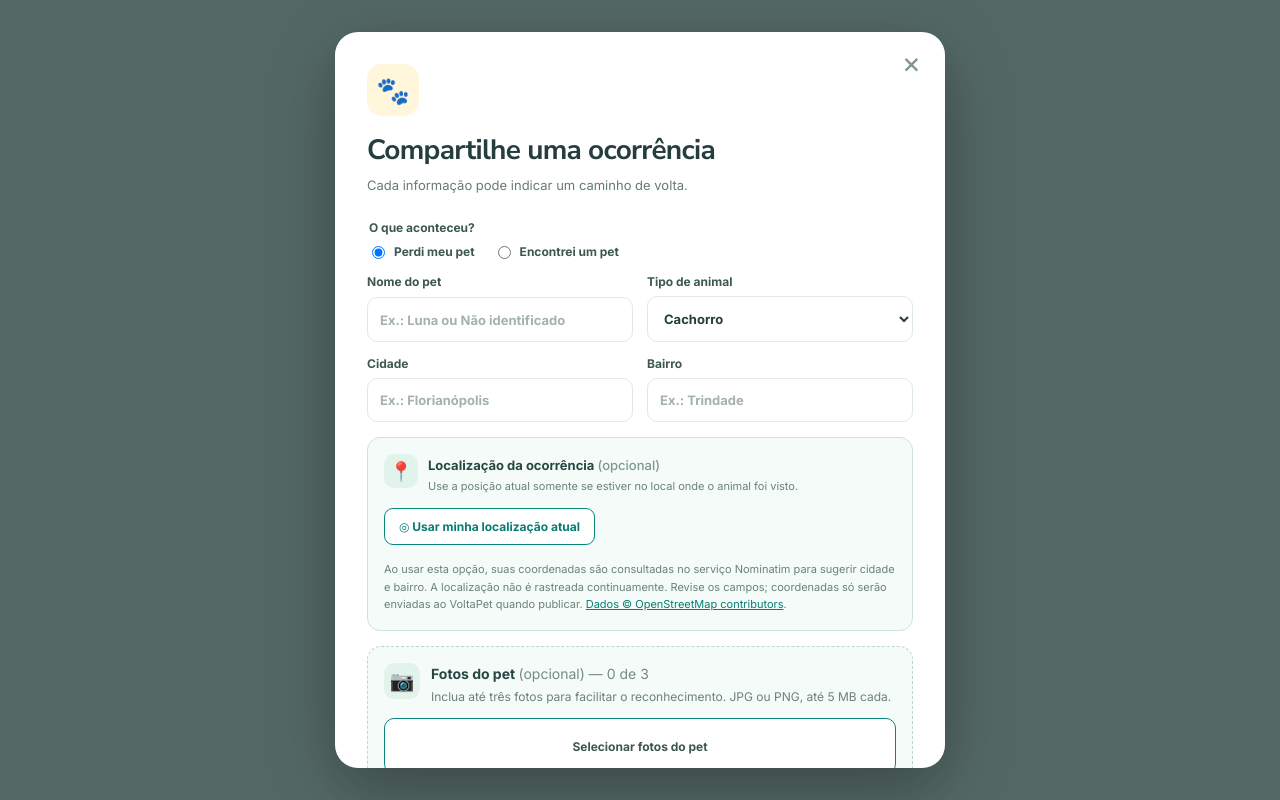
Test: PublishDialog — geolocalização e endereço automático › quando a precisão é ruim, preenche cidade e não inventa bairro
This screenshot has width=1280, height=800.
Click the button "◎ Usar minha localização atual" at coordinates (490, 526), box [384, 508, 595, 545]
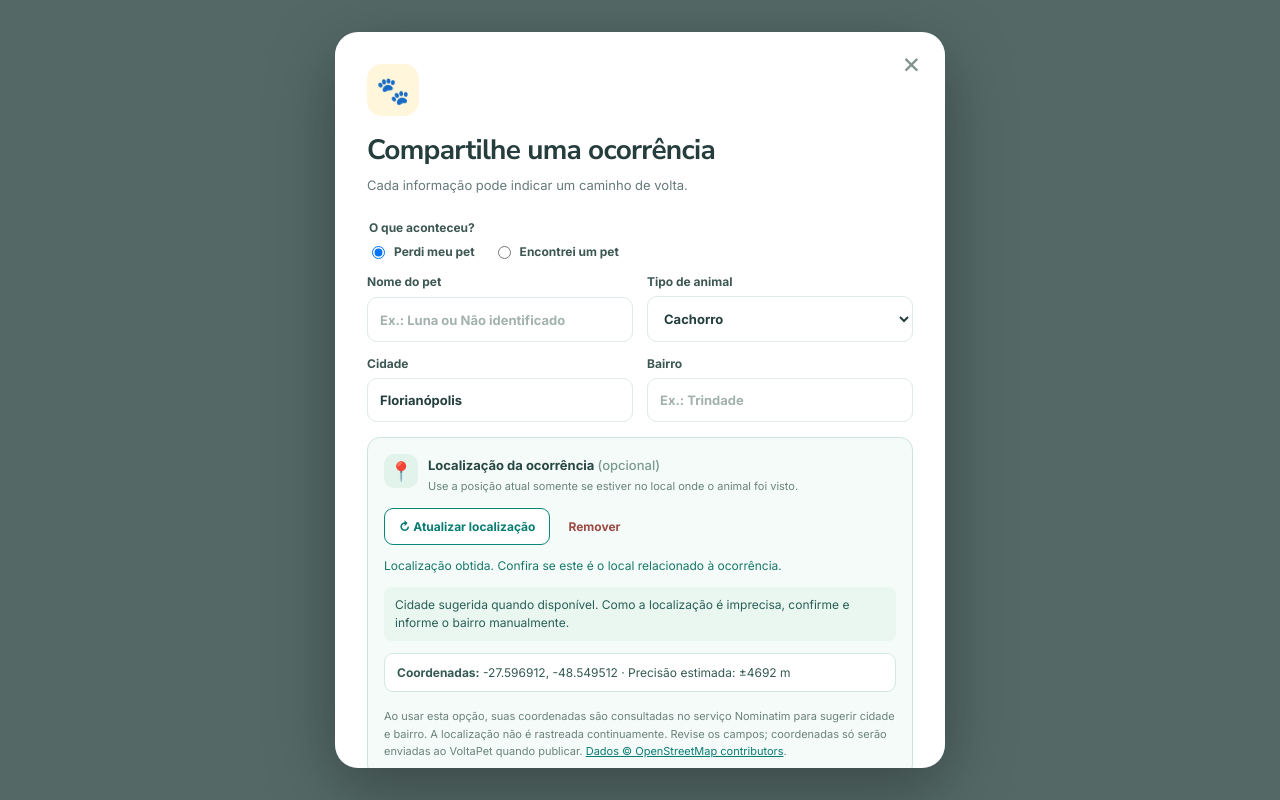
Check: the field with placeholder "Ex.: Trindade" is empty, box [647, 378, 913, 422]
Check: the field with placeholder "Ex.: Florianópolis" holds "Florianópolis", box [367, 378, 633, 422]
Check: the text "localização é imprecisa" is shown, box [395, 597, 850, 630]
